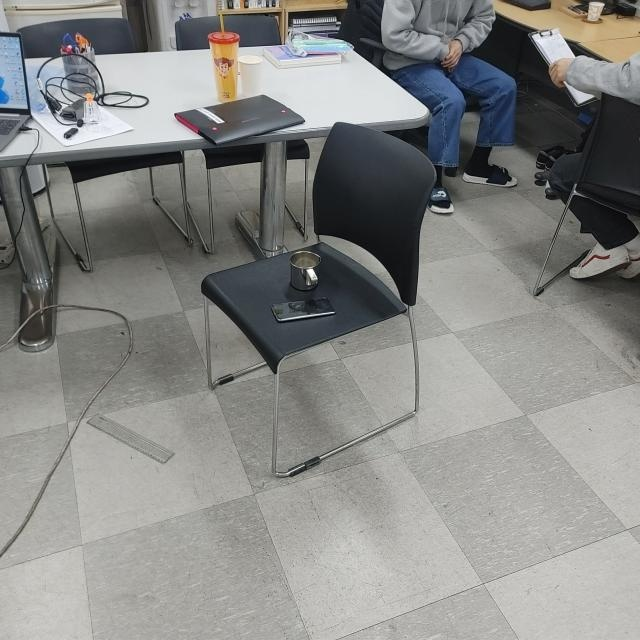cup: (286, 248, 324, 294)
phone: (269, 294, 335, 326)
